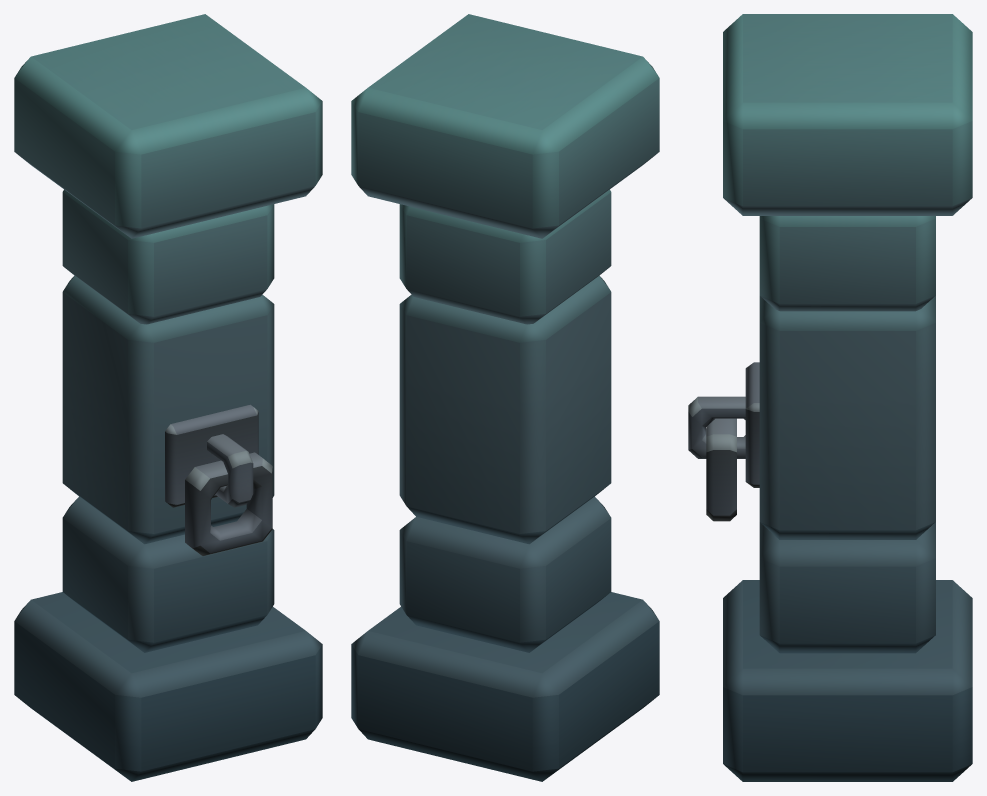
The model's file is pillar.fbx.
3 views of the same model, side by side, from view 1: azimuth 30°, elevation 25°; view 2: azimuth 150°, elevation 25°; view 3: azimuth 270°, elevation 25° (orthographic). The views are drawn at different scales.
Visible parts, largest first — view 1: pillar; view 2: pillar; view 3: pillar.
Boxes of the visible parts, bbox=[...] form: pillar: bbox=[14, 14, 322, 781]; pillar: bbox=[351, 14, 659, 781]; pillar: bbox=[688, 14, 972, 781].
Bounding box in the file's own units: 100 × 300 × 114.
